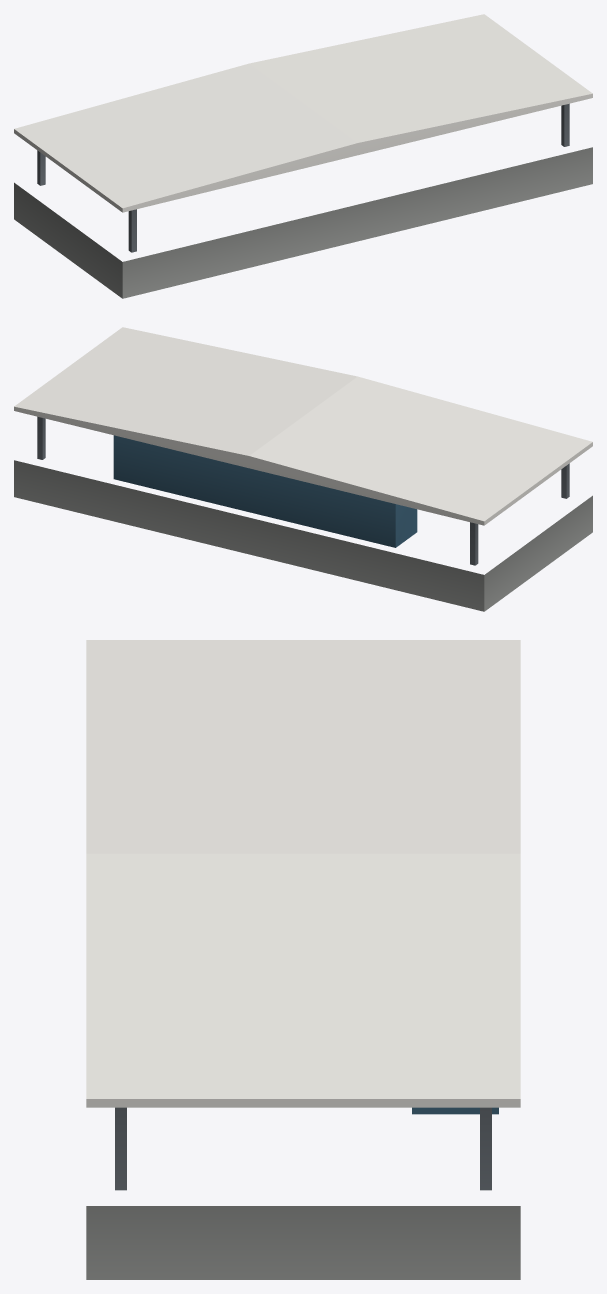
The model's file is conference-entrance-canopy.glb.
3 renders of one model, top to bottom at view 1: azimuth 30°, elevation 25°; view 2: azimuth 150°, elevation 25°; view 3: azimuth 270°, elevation 25°, orthographic. The views are drawn at different scales.
Parts seen in each view (by area): view 1: conference-entrance-canopy; view 2: conference-entrance-canopy; view 3: conference-entrance-canopy.
Boxes of the visible parts, x1=… form: conference-entrance-canopy: x1=14, y1=14, x2=592, y2=298; conference-entrance-canopy: x1=14, y1=327, x2=592, y2=611; conference-entrance-canopy: x1=86, y1=640, x2=520, y2=1279.
Size of the model in its own units: 40 by 8 by 16.
